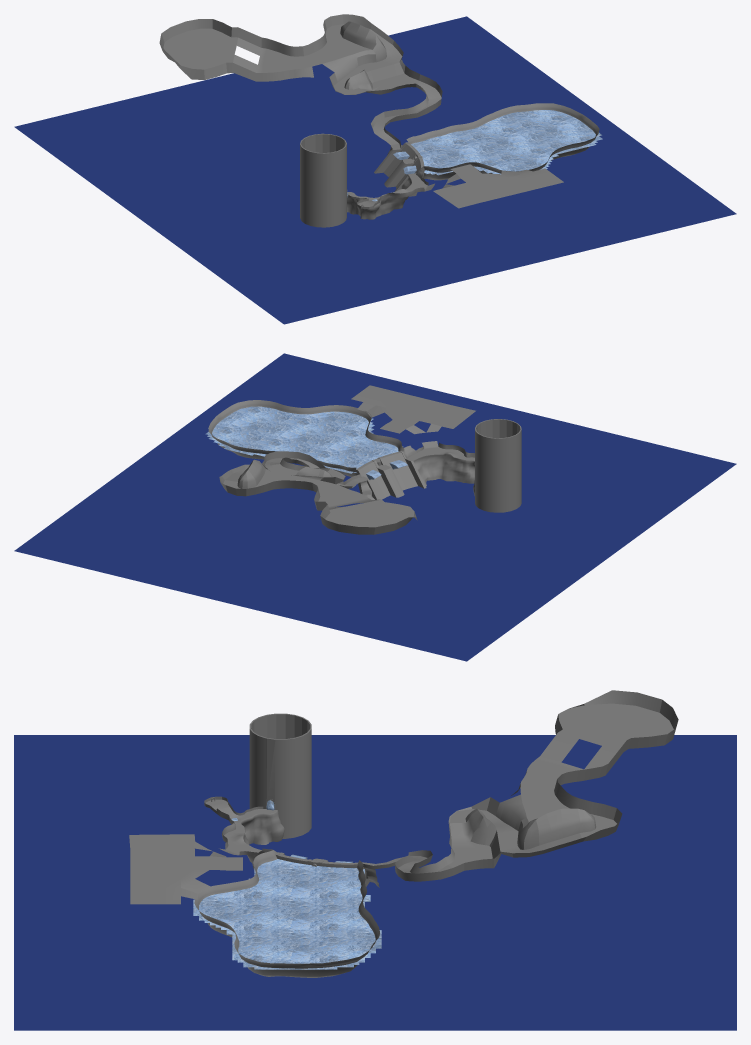
The model's file is IceWorldPRESENT.obj.
The picture shows the model from 3 angles, top to bottom: view 1: azimuth 30°, elevation 25°; view 2: azimuth 150°, elevation 25°; view 3: azimuth 270°, elevation 25°; orthographic projection. The views are drawn at different scales.
Parts seen in each view (by area): view 1: oceanLayer, Terrain, damIce, tempTower4, Dam; view 2: oceanLayer, Terrain, damIce, tempTower4, Dam; view 3: oceanLayer, Terrain, damIce, tempTower4, Dam.
Boxes of the visible parts, x1,y1,x2,y2 form: oceanLayer: (14, 16, 736, 324); Terrain: (159, 14, 599, 219); damIce: (411, 110, 602, 175); tempTower4: (300, 133, 346, 227); Dam: (374, 142, 424, 196); oceanLayer: (14, 353, 736, 661); Terrain: (208, 385, 475, 534); damIce: (205, 406, 403, 473); tempTower4: (475, 419, 521, 512); Dam: (355, 450, 426, 499); oceanLayer: (14, 735, 736, 1030); Terrain: (129, 690, 678, 977); damIce: (193, 859, 381, 969); tempTower4: (249, 713, 311, 838); Dam: (275, 852, 369, 886).
Bounding box in the file's own units: 383 × 76.91 × 395.
3 materials, 1 textured.
